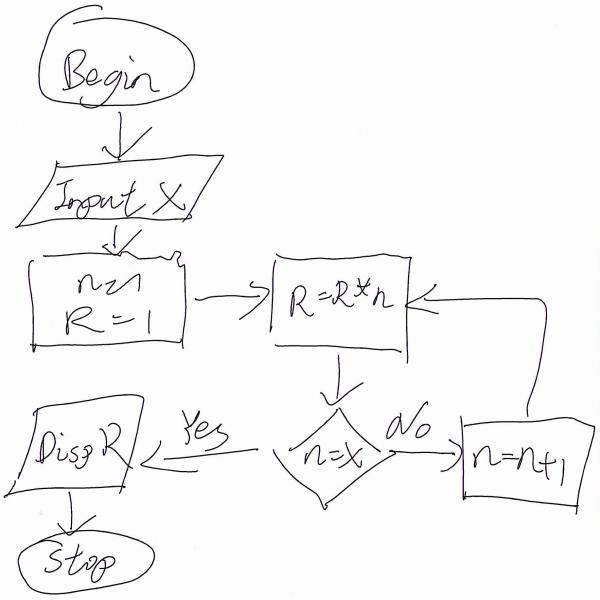arrow: (411, 275, 552, 417), (138, 424, 272, 481), (192, 276, 272, 327), (388, 438, 464, 475), (318, 351, 364, 411), (110, 107, 152, 162), (55, 491, 101, 536), (102, 217, 142, 260)
data: (11, 147, 233, 235), (5, 386, 146, 503)
decision: (270, 398, 399, 520)
process: (265, 237, 414, 363), (24, 248, 197, 355), (454, 405, 596, 512)
terminator: (35, 1, 196, 112), (12, 529, 156, 600)
text: (59, 41, 165, 103), (286, 266, 391, 322), (56, 176, 188, 220), (469, 434, 568, 488), (38, 421, 134, 475), (42, 537, 118, 584), (60, 305, 160, 334), (70, 261, 149, 297), (180, 402, 236, 448), (390, 392, 438, 445), (300, 436, 363, 476)
